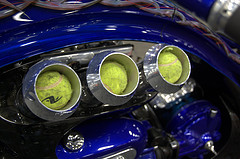tennis ball: (37, 70, 73, 111), (99, 56, 129, 95), (157, 50, 182, 85)
